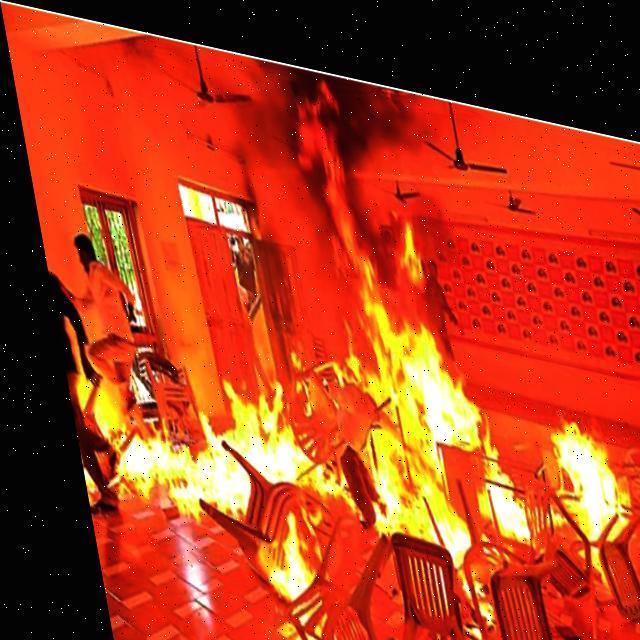Fire: (29, 144, 639, 639)
